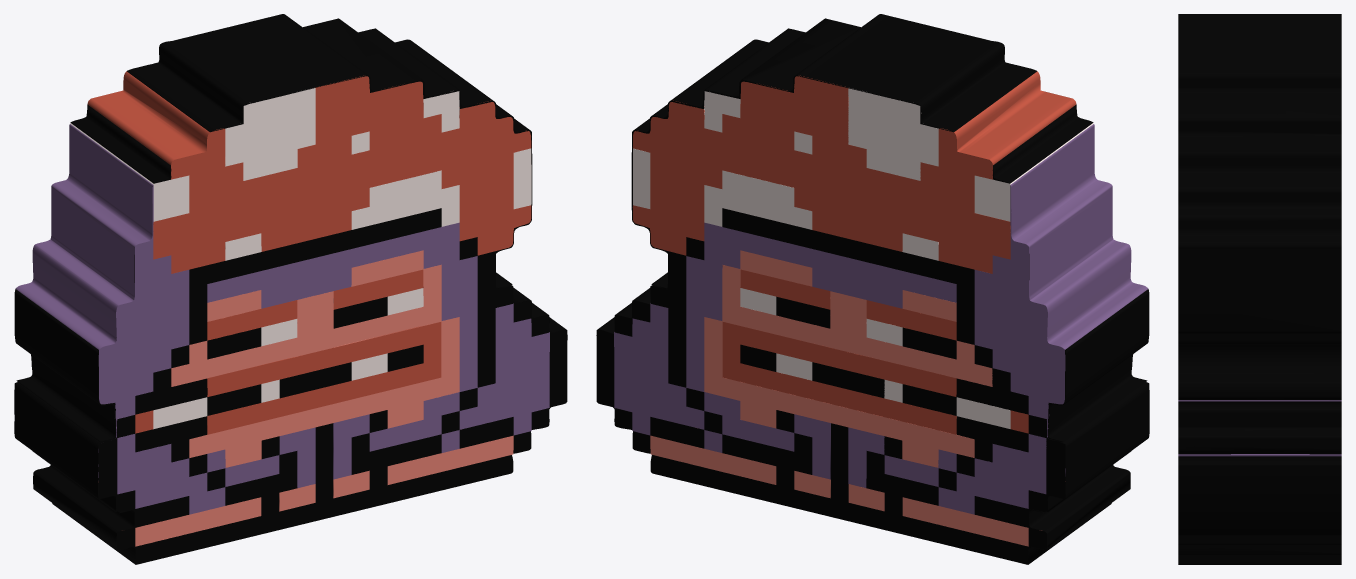
The model's file is Toadz_6123.glb.
3 views of the same model, side by side, from view 1: azimuth 30°, elevation 25°; view 2: azimuth 150°, elevation 25°; view 3: azimuth 270°, elevation 25° (orthographic). The views are drawn at different scales.
Parts seen in each view (by area): view 1: Curve; view 2: Curve; view 3: Curve.
Part boxes in pixels (bbox=[...]): Curve: bbox=[14, 14, 567, 564]; Curve: bbox=[596, 14, 1149, 564]; Curve: bbox=[1178, 14, 1341, 564].
Size of the model in its own units: 3.24 by 2.87 by 1.
